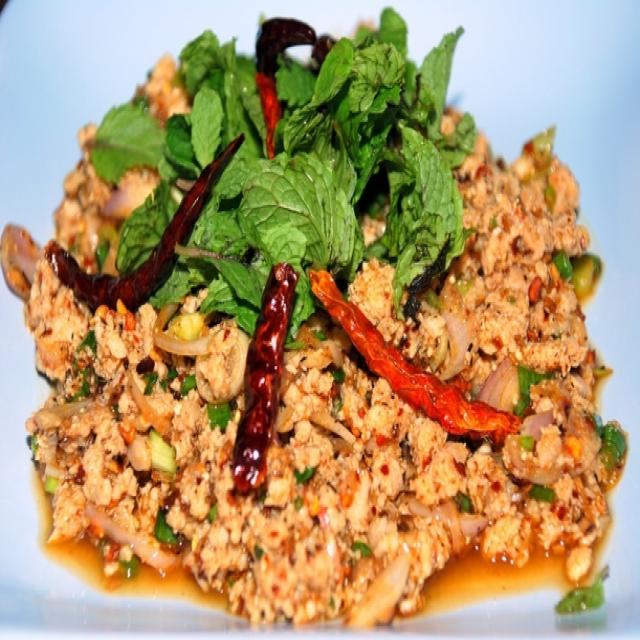鸡肉料理 含炸鸡: (11, 9, 628, 629)
